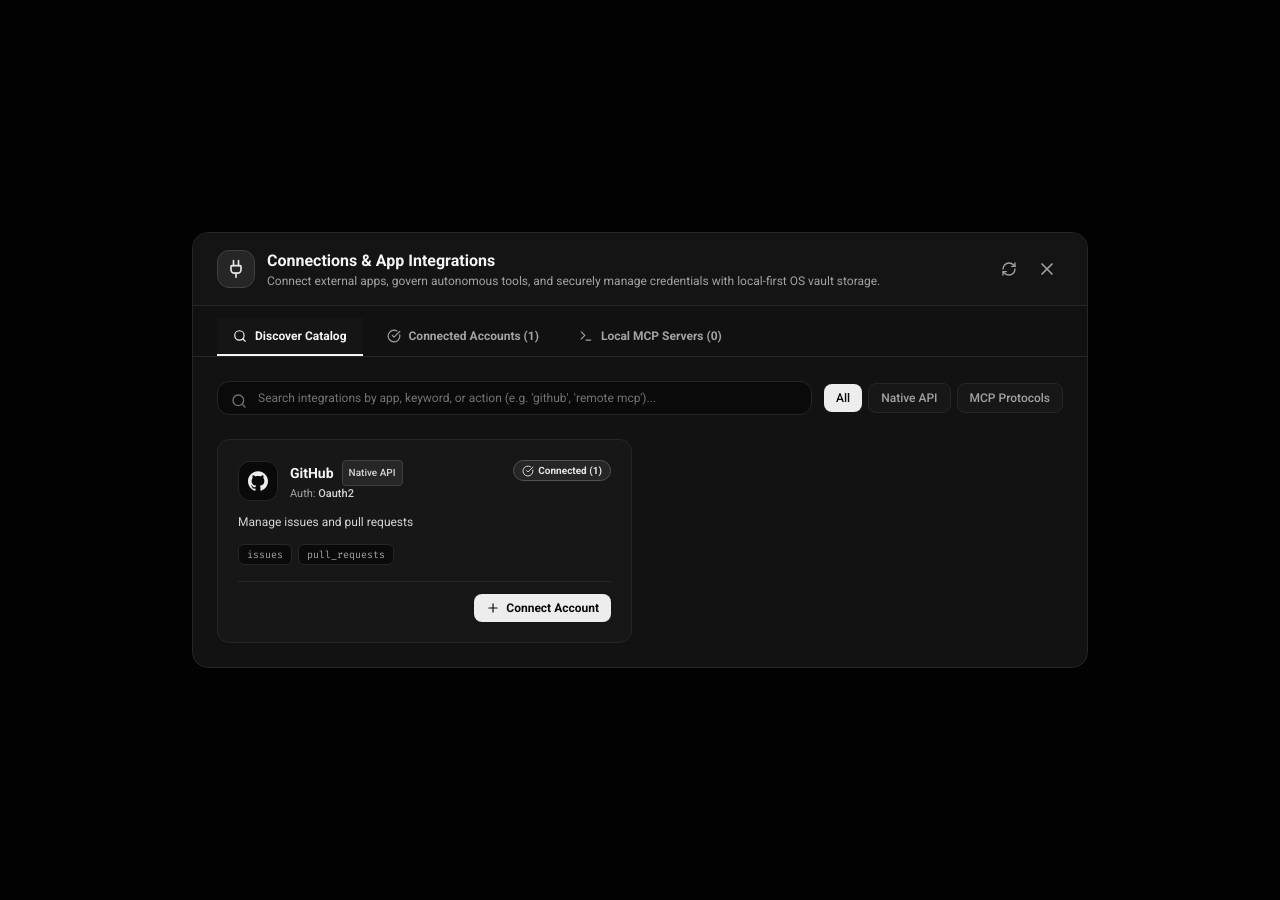
Test: Comprehensive UI Modals & Subsystems › ConnectionsModal › returns null when closed and loads data when opened
Check: the text "GitHub" is shown, box top-left (290, 465), bottom-right (334, 481)
Switch to Connected tab
Click the button "Connected Accounts (1)": x=463, y=337 top-left (370, 318), bottom-right (555, 356)
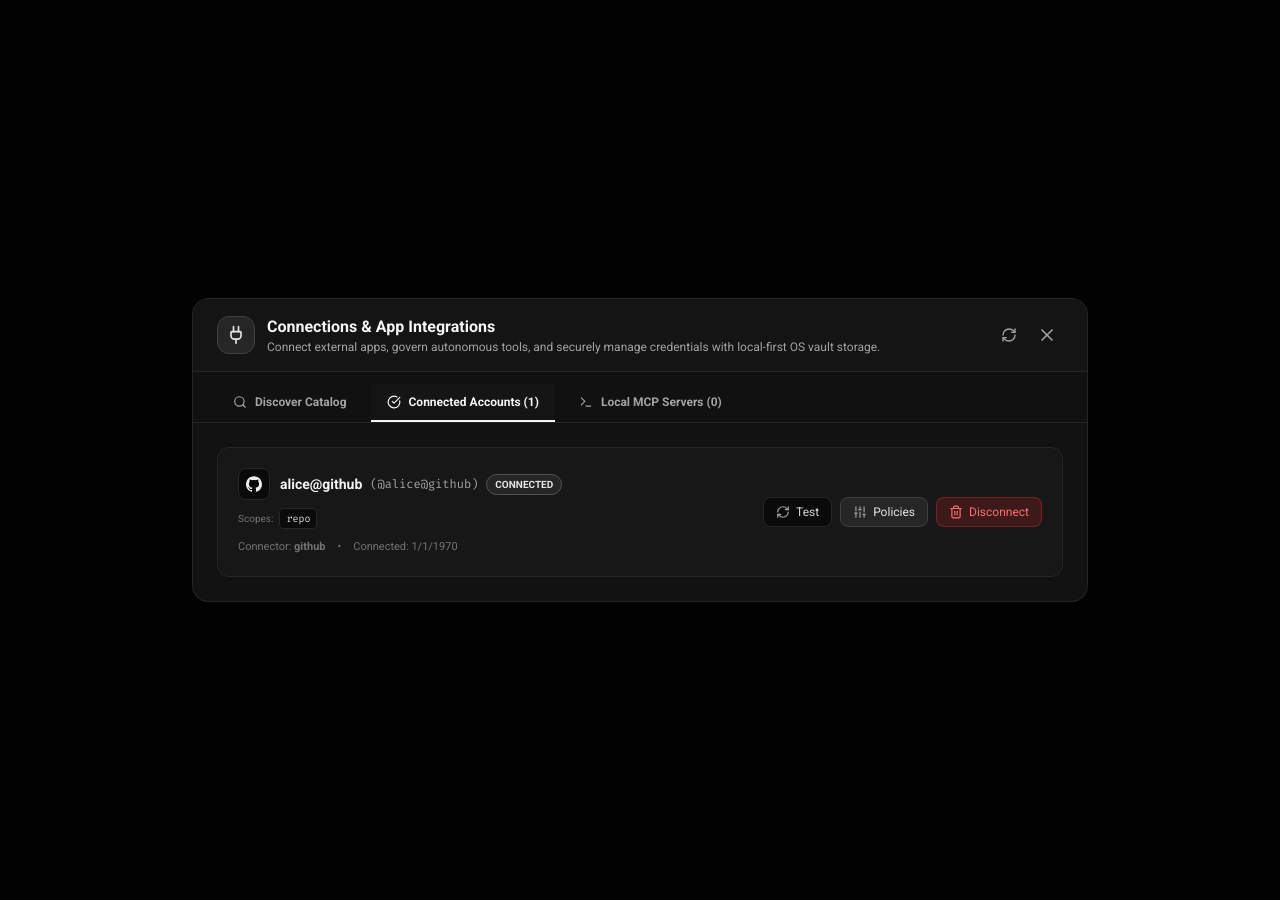
Check: the text "alice@github" is shown, box top-left (280, 474), bottom-right (362, 494)
